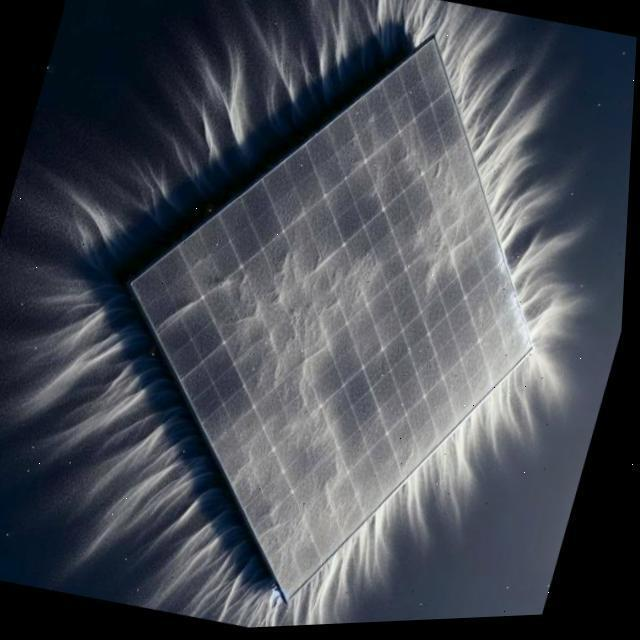Anomaly Solar Panel: (107, 42, 609, 601)
Surface Contaminant: (70, 118, 551, 600), (390, 102, 508, 309)
